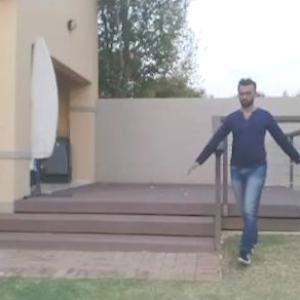land: (192, 78, 299, 268)
